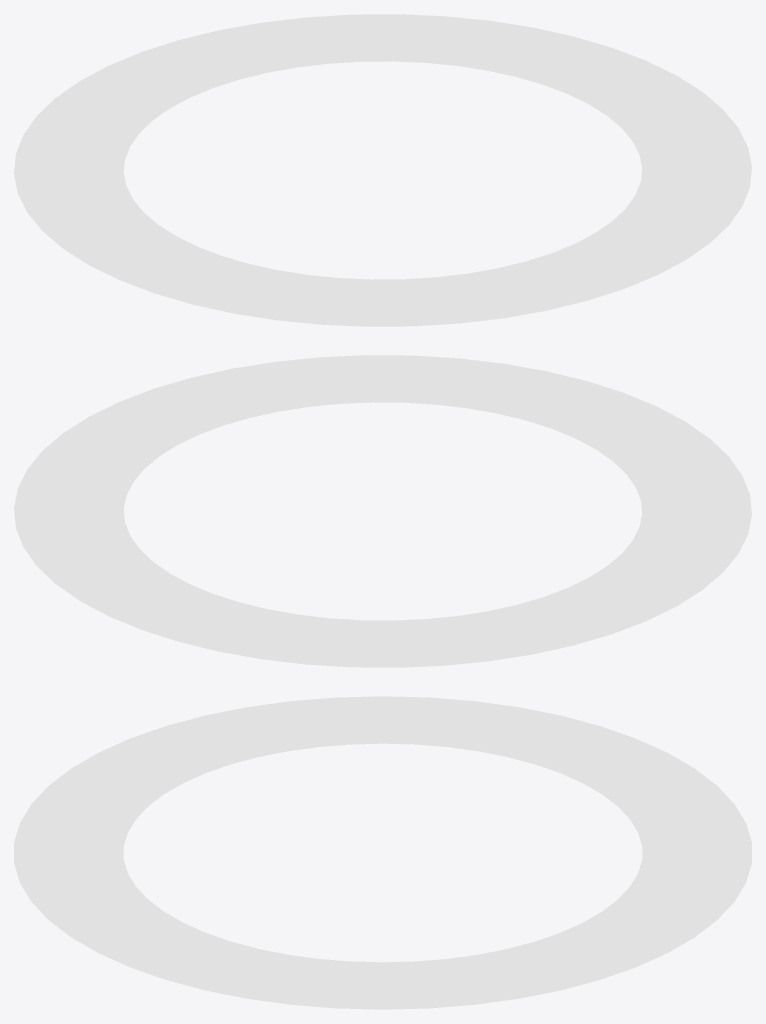
File: yuan.FBX
The picture shows the model from 3 angles, top to bottom: view 1: azimuth 30°, elevation 25°; view 2: azimuth 150°, elevation 25°; view 3: azimuth 270°, elevation 25°; orthographic projection.
Visible parts, largest first — view 1: Cylinder001; view 2: Cylinder001; view 3: Cylinder001.
Part boxes in pixels (x1,y1,x2,y2): Cylinder001: [14, 14, 751, 326]; Cylinder001: [14, 355, 751, 667]; Cylinder001: [14, 696, 751, 1009].
Bounding box in the file's own units: 162 × 0.2347 × 162.
